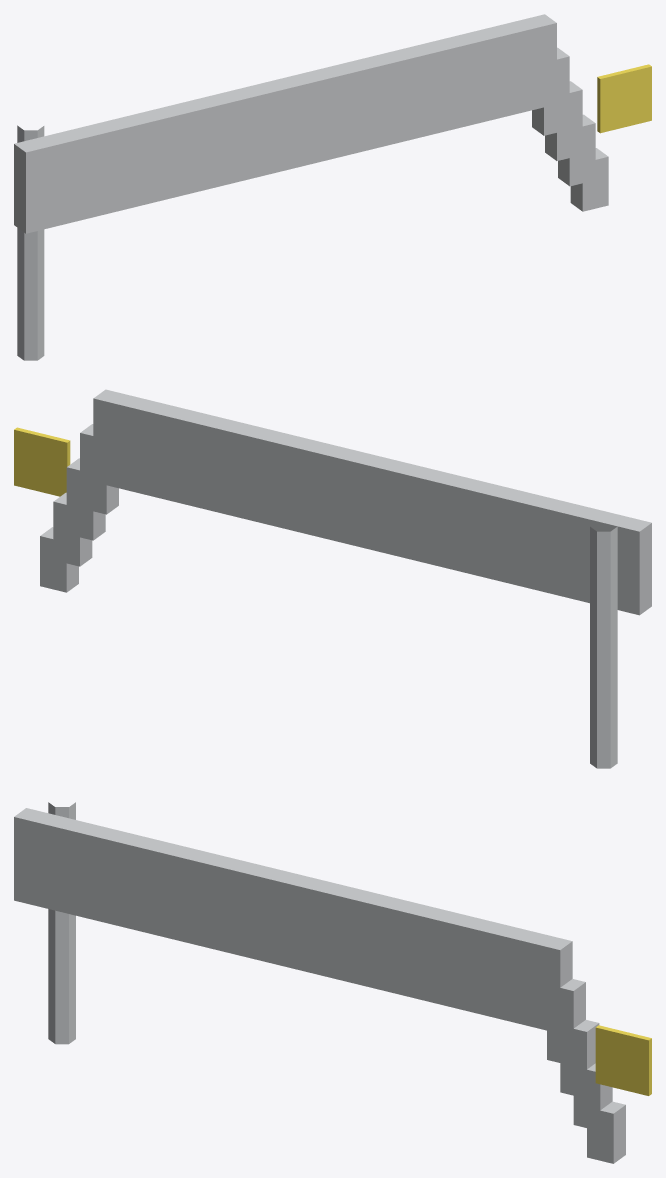
Rendered from guardrail_end_terminal.glb.
The picture shows the model from 3 angles, top to bottom: view 1: azimuth 30°, elevation 25°; view 2: azimuth 150°, elevation 25°; view 3: azimuth 330°, elevation 25°; orthographic projection. The views are drawn at different scales.
Visible parts, largest first — view 1: guardrail_end_terminal; view 2: guardrail_end_terminal; view 3: guardrail_end_terminal.
Part boxes in pixels (x1,y1,x2,y2): guardrail_end_terminal: [14, 14, 651, 360]; guardrail_end_terminal: [14, 389, 651, 768]; guardrail_end_terminal: [14, 802, 651, 1163].
Size of the model in its own units: 2.4 by 0.85 by 0.215.
